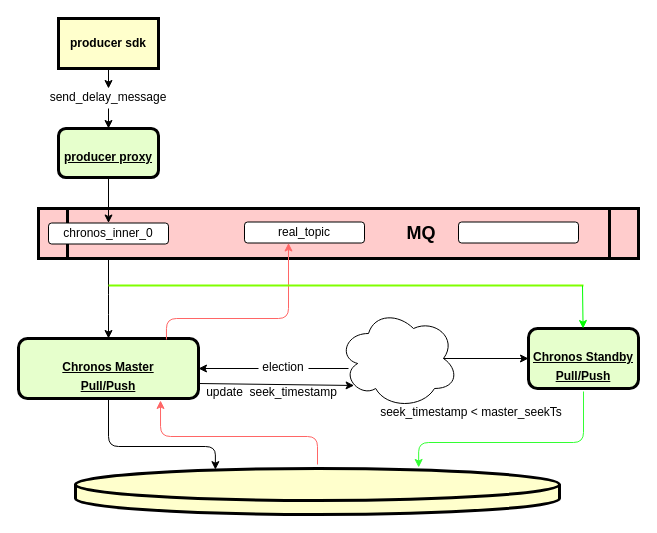
Image size: 657x533. Some labels were removed from this diagram. Each missing label, with the box of its shape:
chronos_inner_N: (458, 221, 578, 243)
TIKV （RocksDB based）: (74, 466, 560, 516)
Zookeeper: (338, 308, 458, 408)
